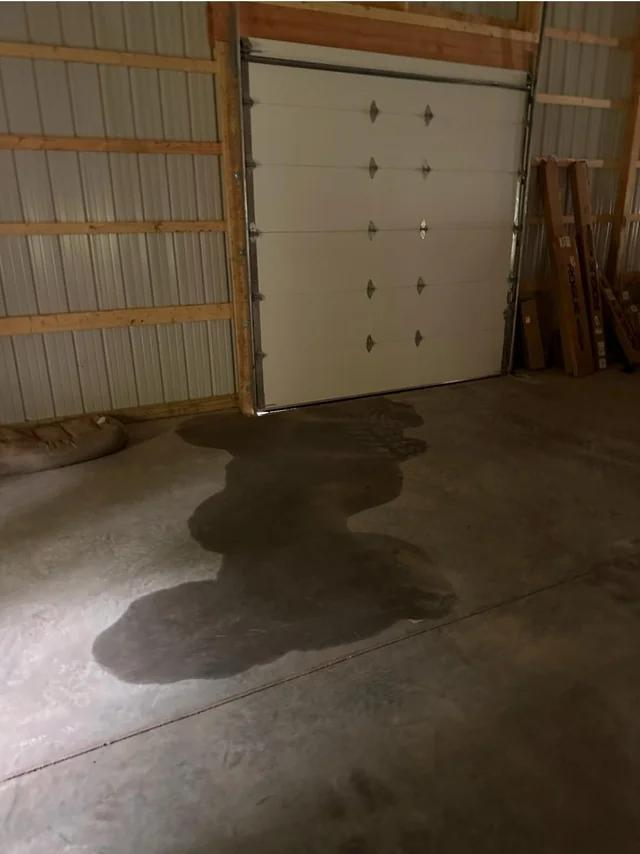water accumulation: (94, 400, 449, 683)
